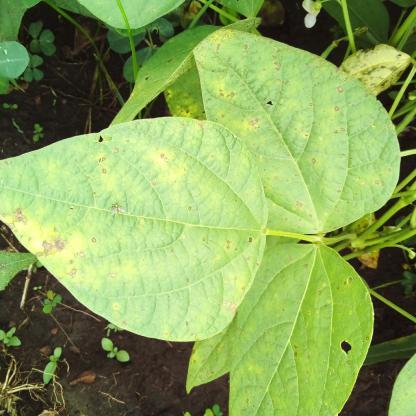Beans_Angular_LeafSpot: (1, 113, 268, 344), (192, 28, 401, 236), (223, 244, 378, 412)
